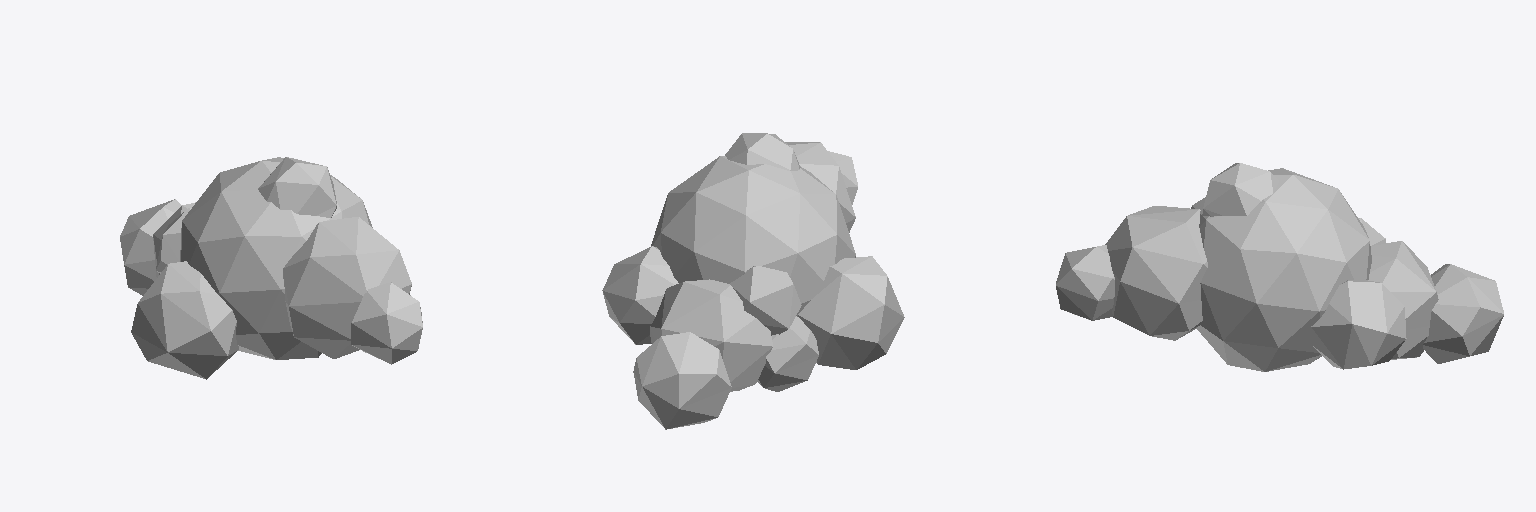
File: cloud.obj
3 views of the same model, side by side, from view 1: azimuth 30°, elevation 25°; view 2: azimuth 150°, elevation 25°; view 3: azimuth 270°, elevation 25° (orthographic).
Visible parts, largest first — view 1: Icosphere.007; view 2: Icosphere.007; view 3: Icosphere.007.
Boxes of the visible parts, <box> form: Icosphere.007: <box>120,157,422,379</box>; Icosphere.007: <box>602,133,904,429</box>; Icosphere.007: <box>1056,163,1503,371</box>.
Size of the model in its own units: 4.38 by 3.67 by 7.25.